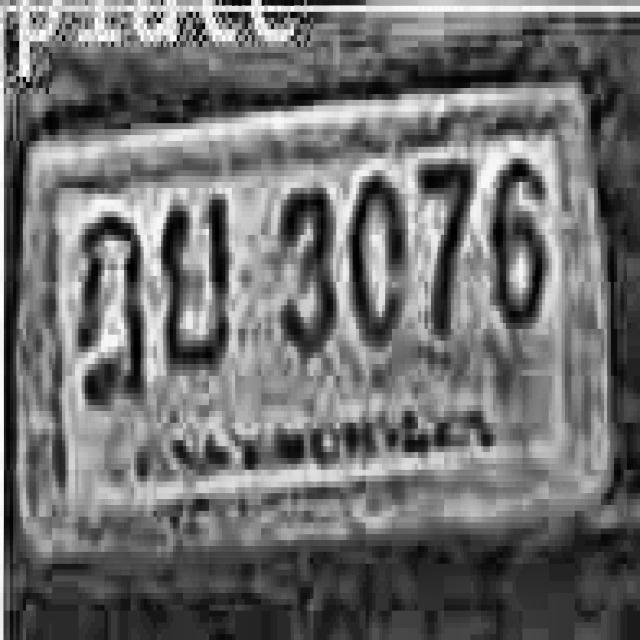license-plate: (7, 67, 617, 597)
